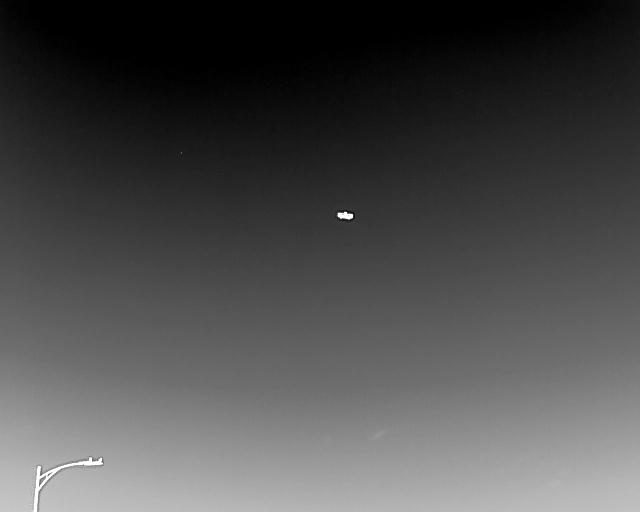fpv-drone: (335, 210, 354, 221)
